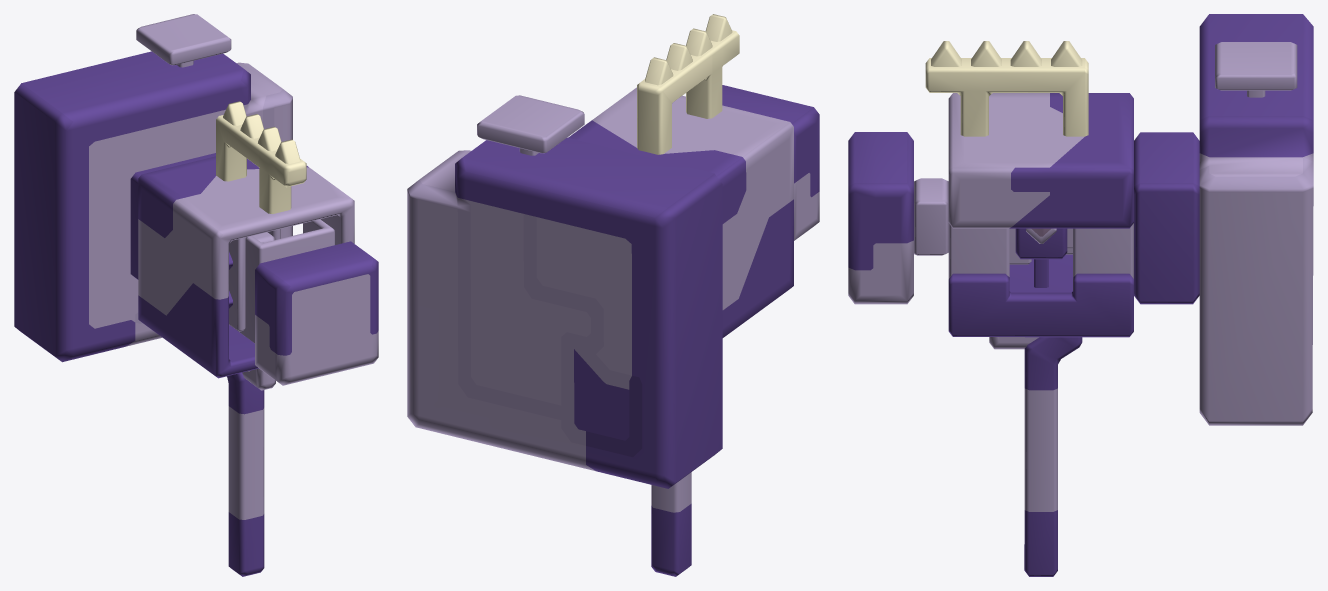
The model's file is TinkaHammer.fbx.
The picture shows the model from 3 angles, left to right: view 1: azimuth 30°, elevation 25°; view 2: azimuth 150°, elevation 25°; view 3: azimuth 270°, elevation 25°; orthographic projection. The views are drawn at different scales.
Visible parts, largest first — view 1: GigaHammer; view 2: GigaHammer; view 3: GigaHammer.
Boxes of the visible parts, left/top/right/bottom form: GigaHammer: left=14, top=14, right=378, bottom=576; GigaHammer: left=407, top=14, right=819, bottom=576; GigaHammer: left=848, top=14, right=1313, bottom=576.
Bounding box in the file's own units: 192 × 356 × 283.
